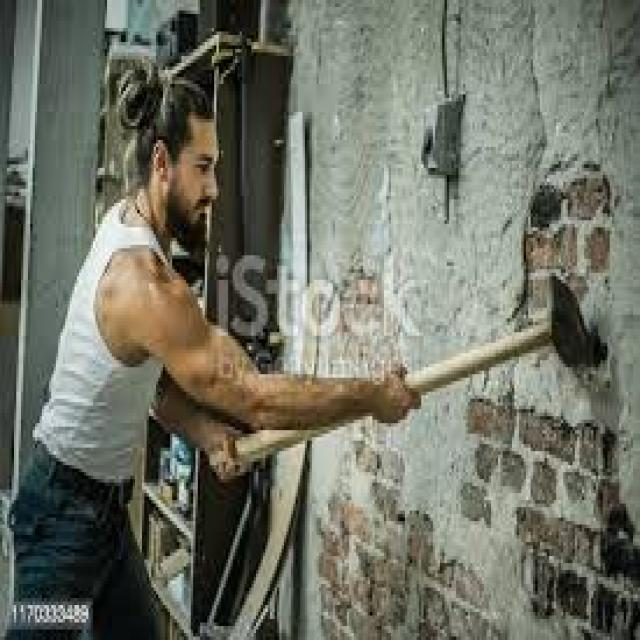hammer: (200, 258, 598, 504)
